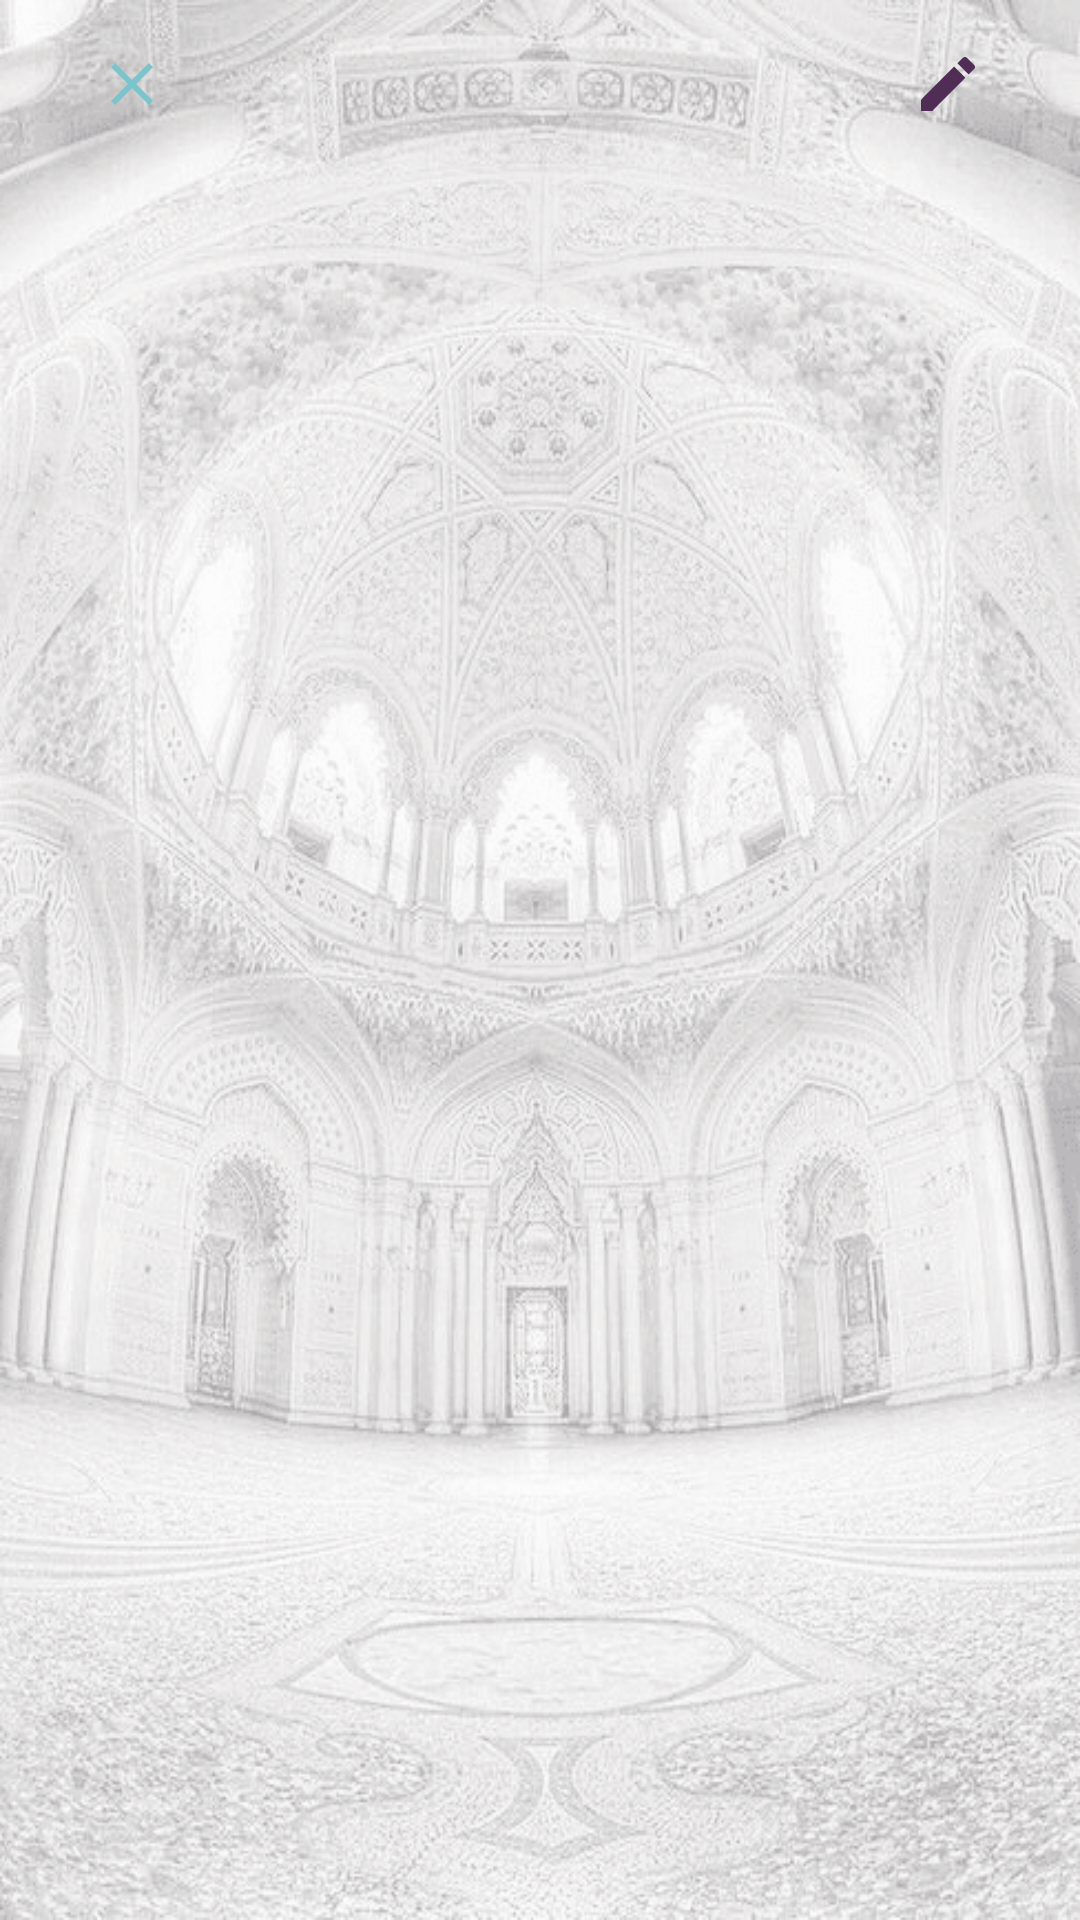

Screen size 1080px×1920px. Icon name, then its center in pixels as (x=x, y=y):
close: (x=132, y=84)
create: (x=948, y=84)
